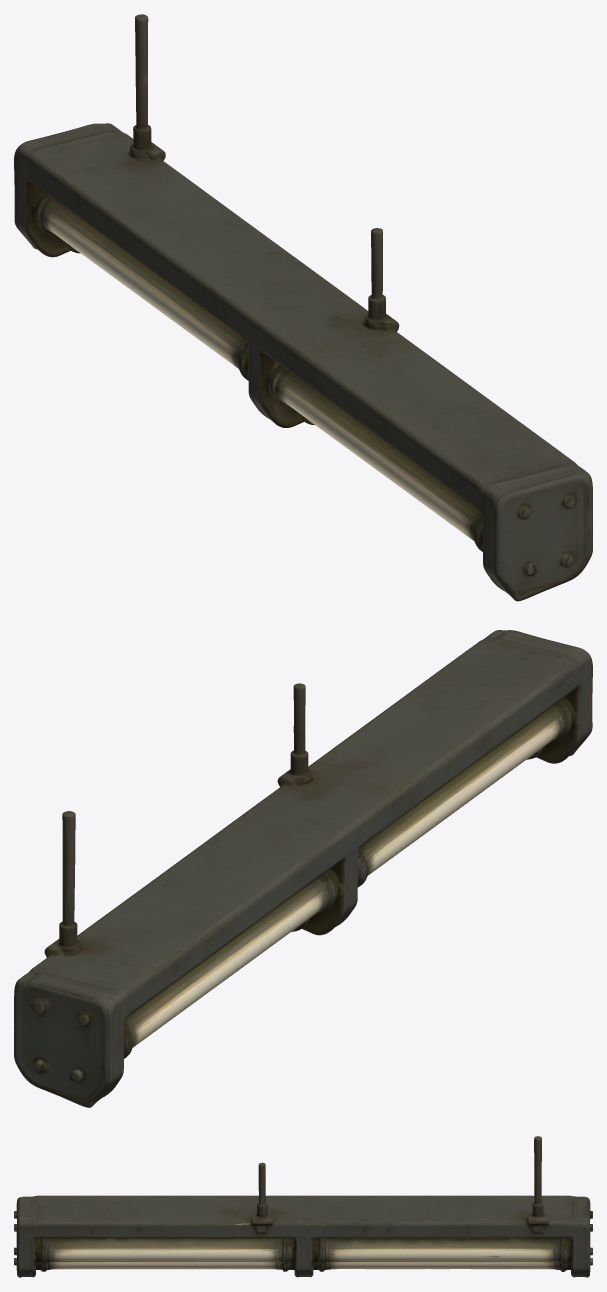
Rendered from fluorescent_fixture.glb.
3 views of the same model, one above another, from view 1: azimuth 30°, elevation 25°; view 2: azimuth 150°, elevation 25°; view 3: azimuth 270°, elevation 25° (orthographic). The views are drawn at different scales.
Visible parts, largest first — view 1: node_0; view 2: node_0; view 3: node_0.
Part boxes in pixels (left/top/right/bottom): node_0: left=14, top=14, right=592, bottom=601; node_0: left=14, top=630, right=592, bottom=1107; node_0: left=14, top=1136, right=592, bottom=1277.
Size of the model in its own units: 0.1405 by 0.3266 by 1.17.
Materials: 1 (1 with a texture image).
